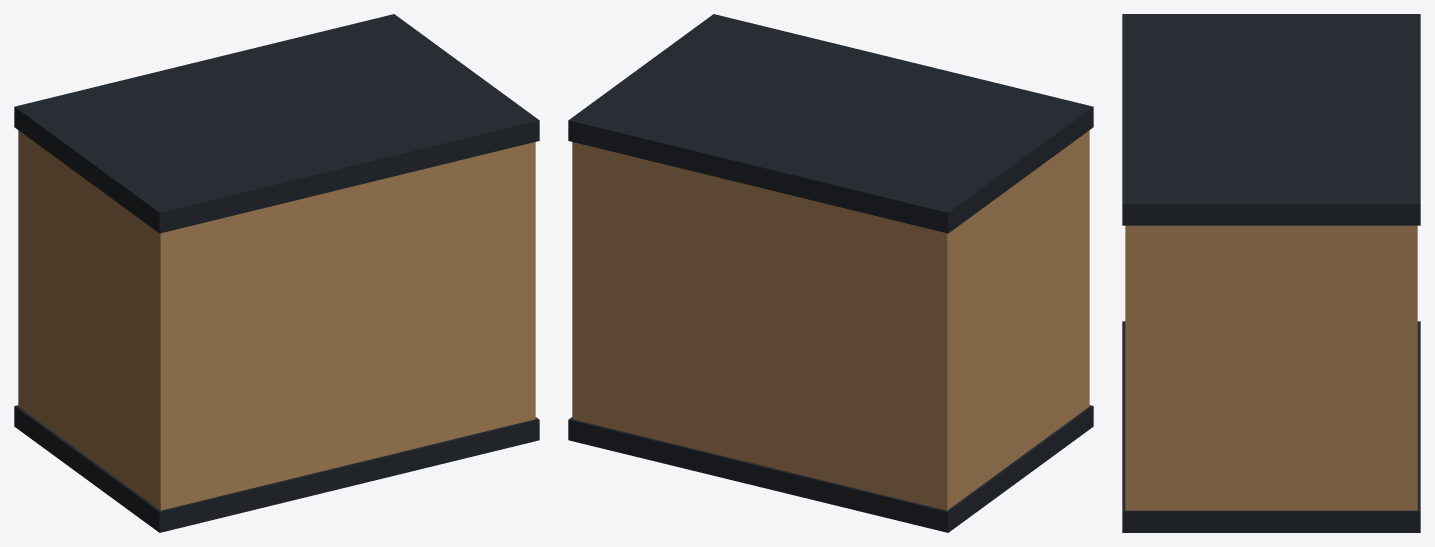
File: plyo_box.glb
3 renders of one model, left to right at view 1: azimuth 30°, elevation 25°; view 2: azimuth 150°, elevation 25°; view 3: azimuth 270°, elevation 25°, orthographic. The views are drawn at different scales.
Visible parts, largest first — view 1: plyo_box; view 2: plyo_box; view 3: plyo_box.
Part boxes in pixels (x1,y1,x2,y2): plyo_box: (14,14,539,532); plyo_box: (568,14,1093,532); plyo_box: (1122,14,1420,532).
Bounding box in the file's own units: 0.77 × 0.62 × 0.51.
